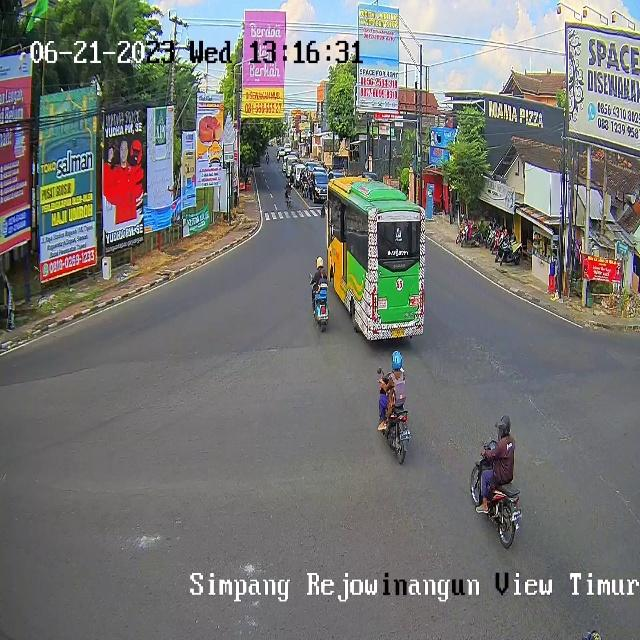bus: (470, 438, 521, 548), (379, 372, 411, 464), (314, 300, 329, 332), (302, 181, 308, 197), (286, 193, 292, 209)
car: (326, 177, 424, 342)
motorcycle: (311, 171, 331, 203), (284, 154, 296, 174)
